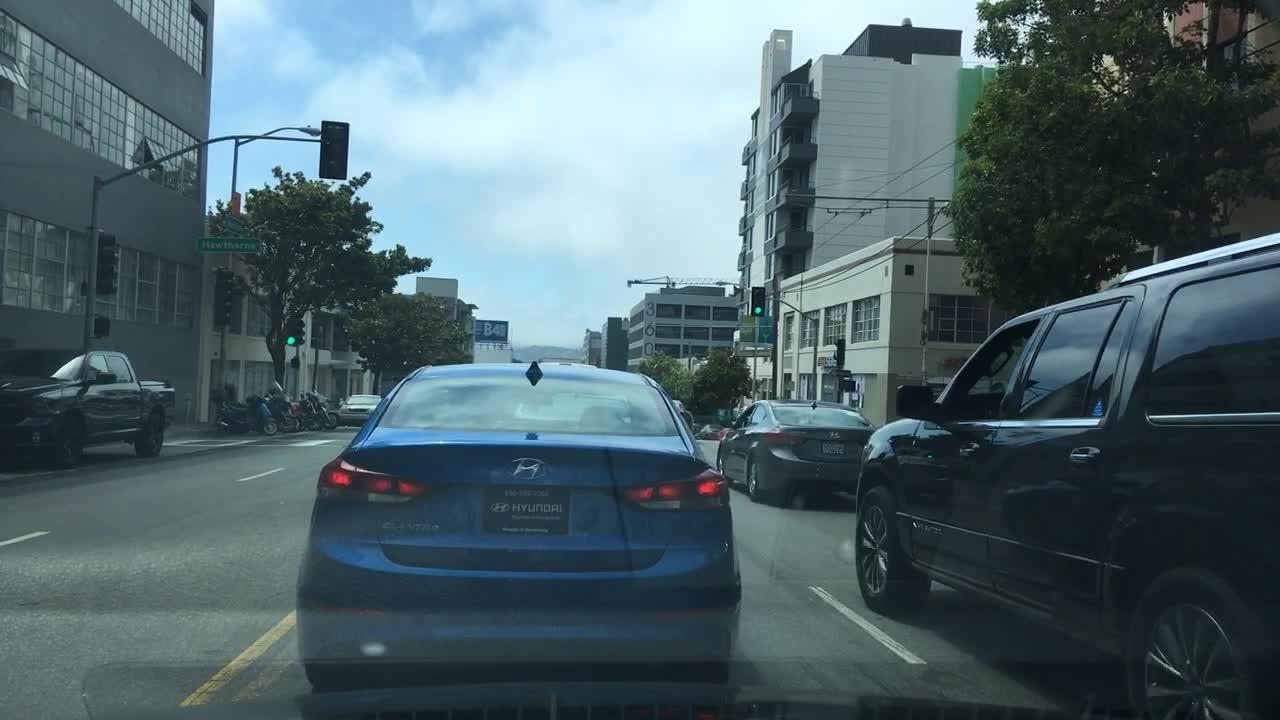Hyundai: (504, 445, 557, 487)
